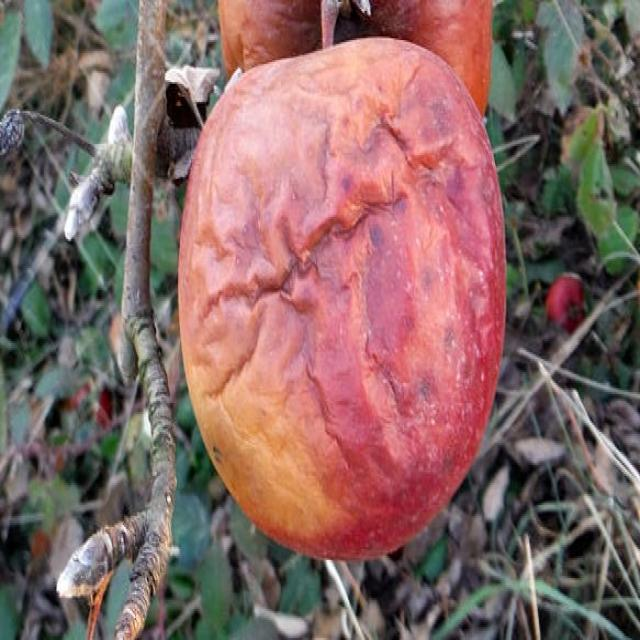overripe: (178, 34, 512, 560)
